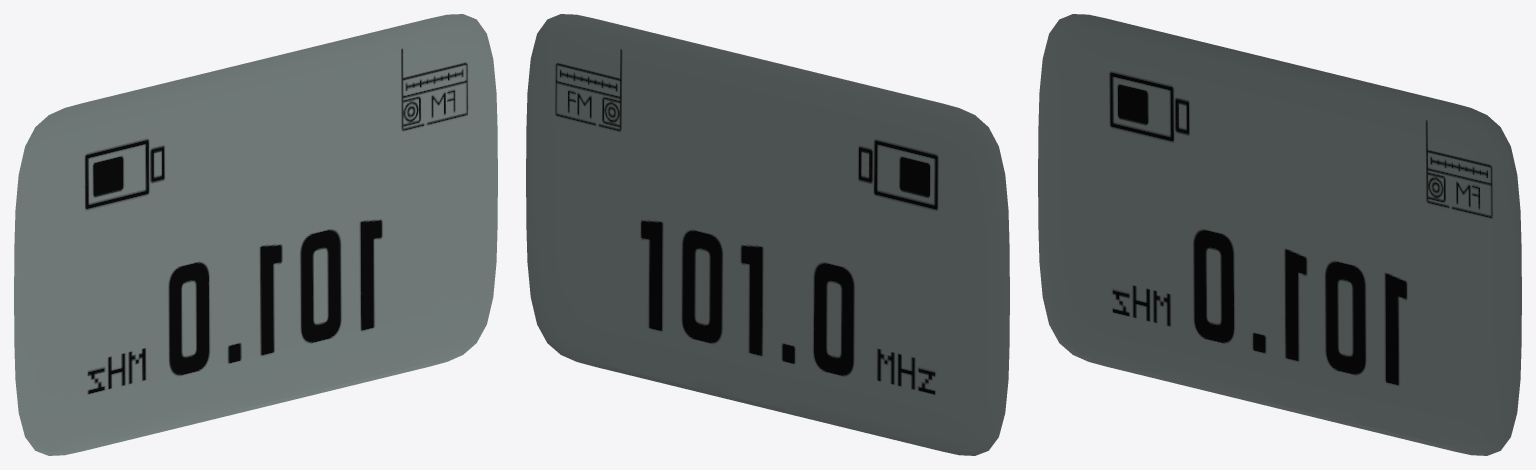
The model's file is display.gltf.
3 views of the same model, side by side, from view 1: azimuth 30°, elevation 25°; view 2: azimuth 150°, elevation 25°; view 3: azimuth 330°, elevation 25° (orthographic).
Parts seen in each view (by area): view 1: display; view 2: display; view 3: display.
Boxes of the visible parts, x1,y1,x2,y2 form: display: [14, 14, 497, 455]; display: [526, 14, 1009, 455]; display: [1038, 14, 1521, 455].
Size of the model in its own units: 0.9461 by 0.6506 by 0.00135.
Materials: 1 (1 with a texture image).
